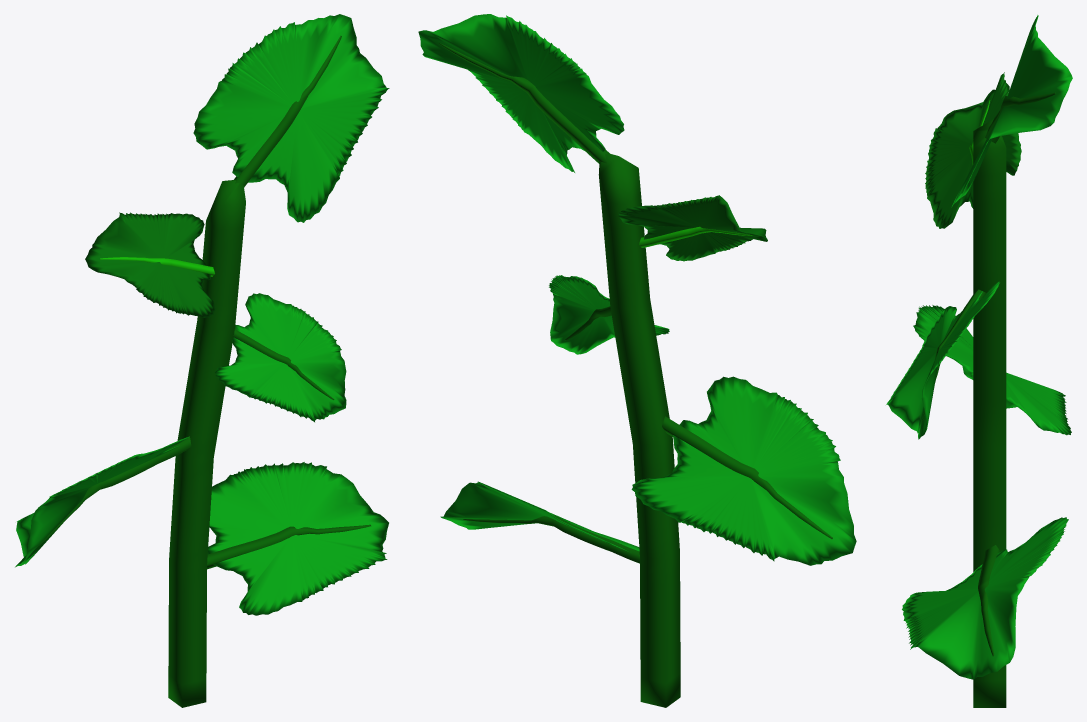
Rendered from Tournesol_Croissance_1.fbx.
3 renders of one model, left to right at view 1: azimuth 30°, elevation 25°; view 2: azimuth 150°, elevation 25°; view 3: azimuth 270°, elevation 25°, orthographic. The views are drawn at different scales.
Visible parts, largest first — view 1: Tournesol; view 2: Tournesol; view 3: Tournesol.
Boxes of the visible parts, box(x1,y1,x2,y2) form: Tournesol: box(15, 14, 389, 707); Tournesol: box(418, 14, 856, 707); Tournesol: box(886, 15, 1072, 707).
Bounding box in the file's own units: 68.65 × 108 × 24.52.
